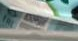2d: (21, 12, 48, 31)
